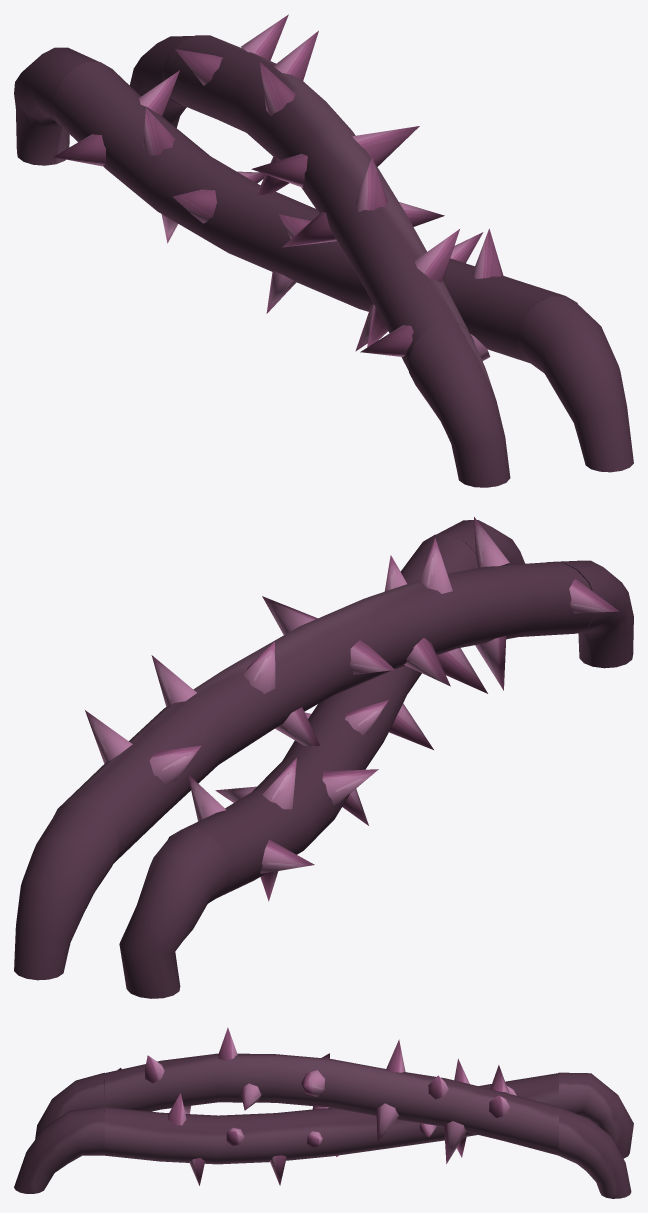
File: Spikes_forSubstance.fbx
The picture shows the model from 3 angles, top to bottom: view 1: azimuth 30°, elevation 25°; view 2: azimuth 150°, elevation 25°; view 3: azimuth 270°, elevation 25°; orthographic projection. The views are drawn at different scales.
Parts seen in each view (by area): view 1: SpikeStrip, Cap_L, Cap_R; view 2: SpikeStrip, Cap_R, Cap_L; view 3: SpikeStrip, Cap_R, Cap_L.
Part boxes in pixels (left/top/right/bottom): SpikeStrip: left=53, top=14, right=577, bottom=370; Cap_L: left=409, top=296, right=633, bottom=487; Cap_R: left=14, top=36, right=193, bottom=165; SpikeStrip: left=53, top=517, right=619, bottom=901; Cap_R: left=14, top=802, right=230, bottom=998; Cap_L: left=436, top=520, right=633, bottom=668; SpikeStrip: left=104, top=1027, right=558, bottom=1185; Cap_R: left=558, top=1072, right=633, bottom=1198; Cap_L: left=14, top=1072, right=104, bottom=1193.
Bounding box in the file's own units: 74.66 × 68 × 273.
